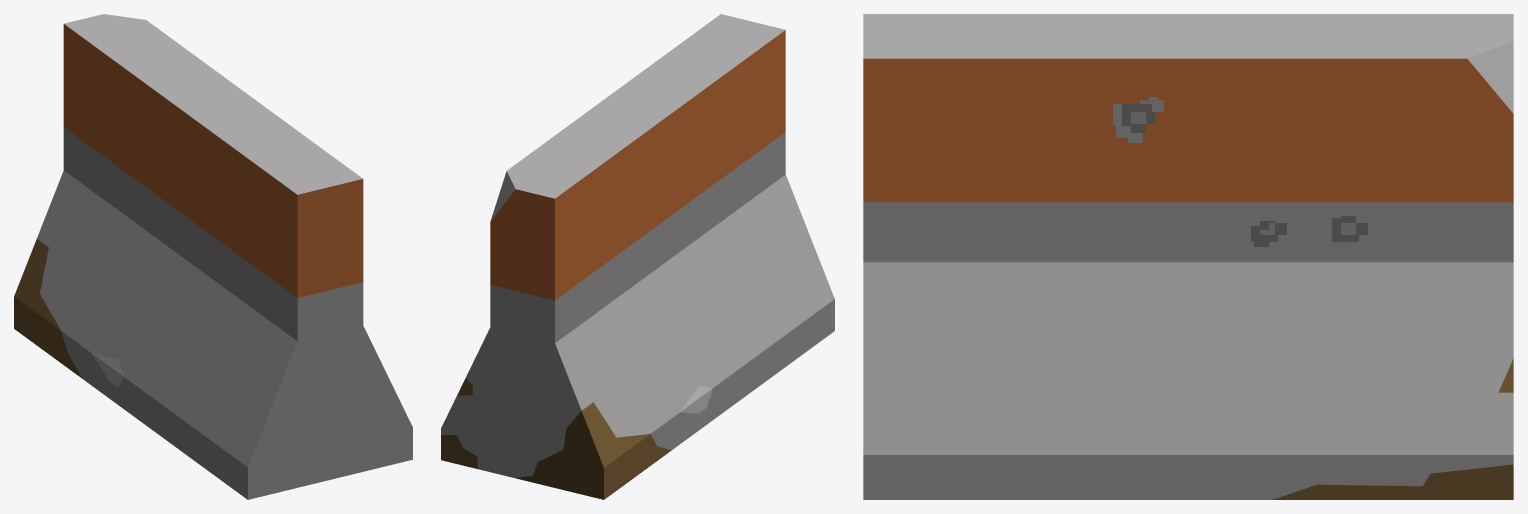
File: SA_Prop_Barrier_01.glb
3 views of the same model, side by side, from view 1: azimuth 30°, elevation 25°; view 2: azimuth 150°, elevation 25°; view 3: azimuth 270°, elevation 25° (orthographic). The views are drawn at different scales.
Parts seen in each view (by area): view 1: SA_Prop_Barrier_01; view 2: SA_Prop_Barrier_01; view 3: SA_Prop_Barrier_01.
Part boxes in pixels (x1,y1,x2,y2): SA_Prop_Barrier_01: (14,14,412,499); SA_Prop_Barrier_01: (441,14,834,499); SA_Prop_Barrier_01: (863,14,1513,499).
Bounding box in the file's own units: 0.42 × 0.7127 × 1.03.
1 material, 1 textured.
